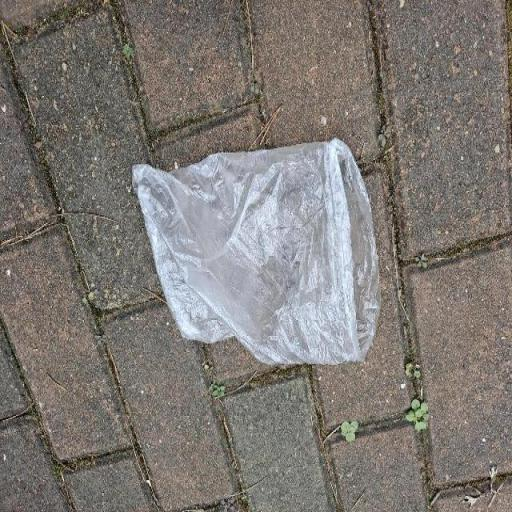plastic-bag: (129, 136, 383, 375)
